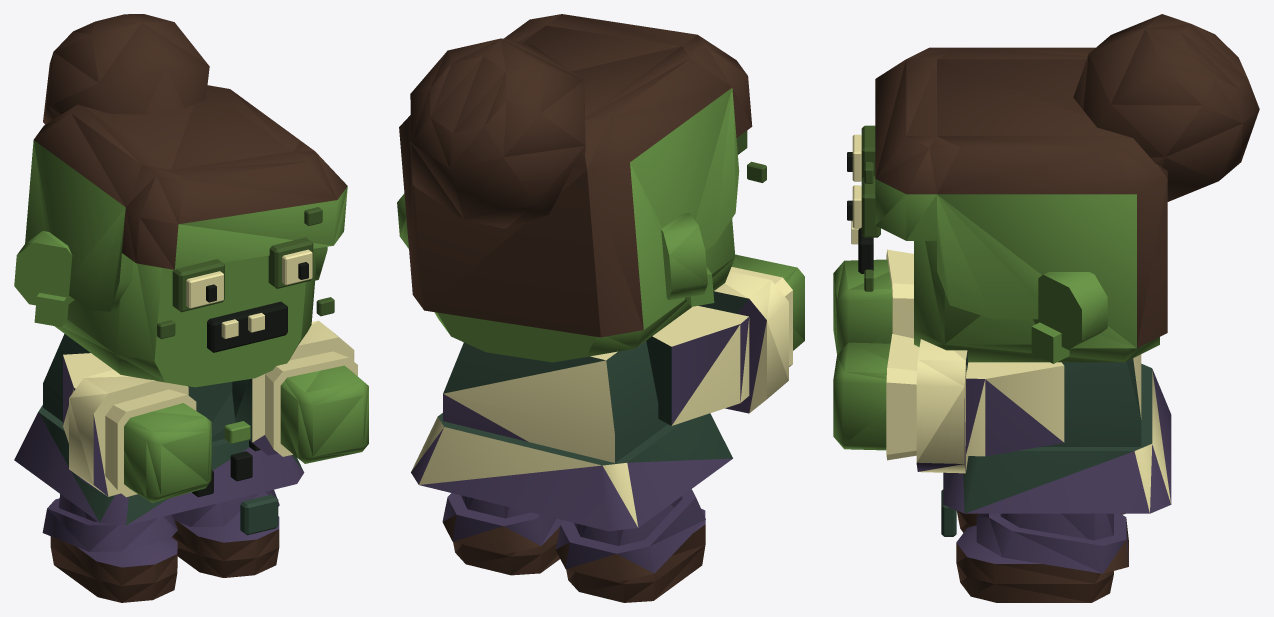
The model's file is zombie-female-d-blockie.glb.
3 renders of one model, left to right at view 1: azimuth 30°, elevation 25°; view 2: azimuth 150°, elevation 25°; view 3: azimuth 270°, elevation 25°, orthographic. The views are drawn at different scales.
Visible parts, largest first — view 1: zombie-female-d-blockie; view 2: zombie-female-d-blockie; view 3: zombie-female-d-blockie.
Boxes of the visible parts, left/top/right/bottom form: zombie-female-d-blockie: left=14, top=14, right=368, bottom=602; zombie-female-d-blockie: left=397, top=14, right=804, bottom=602; zombie-female-d-blockie: left=833, top=14, right=1259, bottom=602.
Bounding box in the file's own units: 0.4559 × 0.7739 × 0.5543.
1 material, 1 textured.
